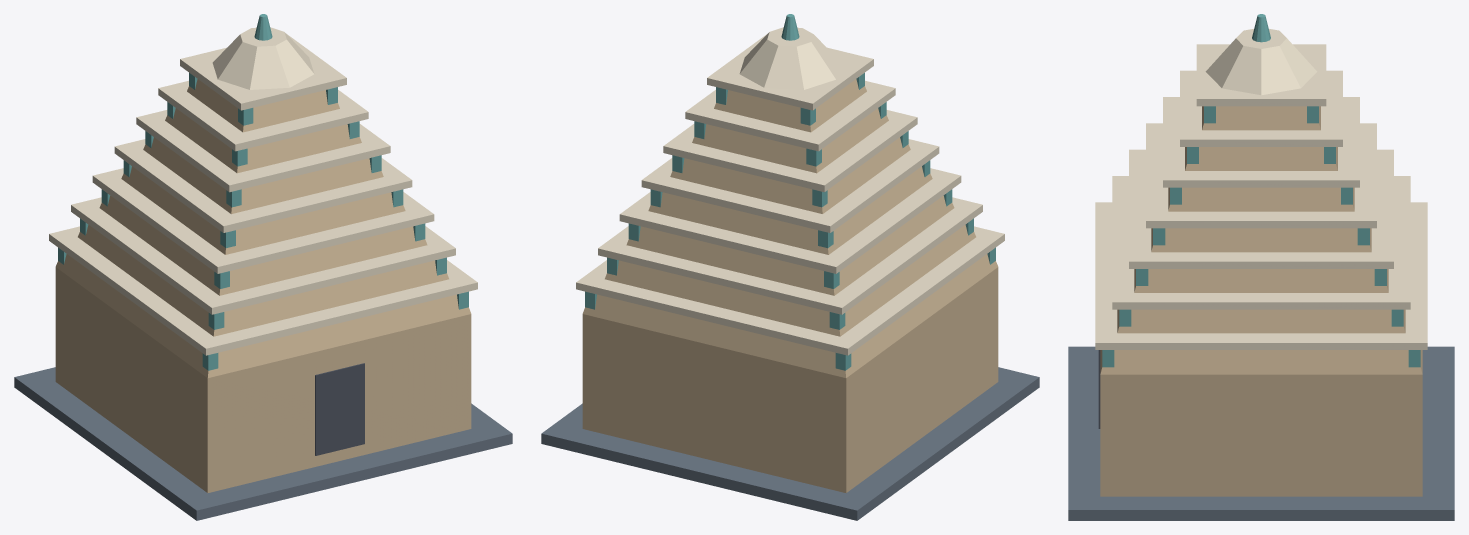
The model's file is sample.glb.
3 renders of one model, left to right at view 1: azimuth 30°, elevation 25°; view 2: azimuth 150°, elevation 25°; view 3: azimuth 270°, elevation 25°, orthographic. The views are drawn at different scales.
Parts seen in each view (by area): view 1: sanctum_massing, DISPLAY_plinth, diminishing_tala_1, projecting_cornice, projecting_cornice.001, diminishing_tala_2, projecting_cornice.002, diminishing_tala_3, projecting_cornice.003, diminishing_tala_4, projecting_cornice.004, diminishing_tala_5 (+6 smaller); view 2: sanctum_massing, DISPLAY_plinth, diminishing_tala_1, projecting_cornice, projecting_cornice.001, diminishing_tala_2, projecting_cornice.002, diminishing_tala_3, projecting_cornice.003, diminishing_tala_4, projecting_cornice.004, diminishing_tala_5 (+5 smaller); view 3: sanctum_massing, DISPLAY_plinth, projecting_cornice, projecting_cornice.001, projecting_cornice.002, diminishing_tala_1, projecting_cornice.003, diminishing_tala_2, projecting_cornice.004, diminishing_tala_3, diminishing_tala_4, projecting_cornice.005 (+5 smaller).
Part boxes in pixels (x1,y1,x2,y2): sanctum_massing: (55,267,471,492); DISPLAY_plinth: (14,367,512,520); diminishing_tala_1: (55,254,471,377); projecting_cornice: (49,226,477,355); projecting_cornice.001: (71,197,455,314); diminishing_tala_2: (78,224,448,336); projecting_cornice.002: (92,168,434,273); diminishing_tala_3: (99,195,427,295); projecting_cornice.003: (114,139,412,232); diminishing_tala_4: (121,166,405,254); projecting_cornice.004: (136,110,390,192); diminishing_tala_5: (143,137,383,213); sanctum_massing: (582,267,998,492); DISPLAY_plinth: (541,367,1039,520); diminishing_tala_1: (582,254,998,377); projecting_cornice: (576,226,1004,355); projecting_cornice.001: (598,197,982,314); diminishing_tala_2: (605,224,975,336); projecting_cornice.002: (619,168,961,273); diminishing_tala_3: (626,195,954,295); projecting_cornice.003: (641,139,939,232); diminishing_tala_4: (648,166,932,254); projecting_cornice.004: (663,110,917,192); diminishing_tala_5: (670,137,910,213); sanctum_massing: (1100,374,1422,496); DISPLAY_plinth: (1068,346,1454,520); projecting_cornice: (1095,202,1427,349); projecting_cornice.001: (1112,176,1410,309); projecting_cornice.002: (1129,149,1393,268); diminishing_tala_1: (1100,350,1422,374); projecting_cornice.003: (1146,123,1376,228); diminishing_tala_2: (1117,309,1405,333); projecting_cornice.004: (1163,97,1359,187); diminishing_tala_3: (1134,269,1388,292); diminishing_tala_4: (1151,228,1371,252); projecting_cornice.005: (1180,70,1342,146).
Bounding box in the file's own units: 5.75 × 6.96 × 5.75.
